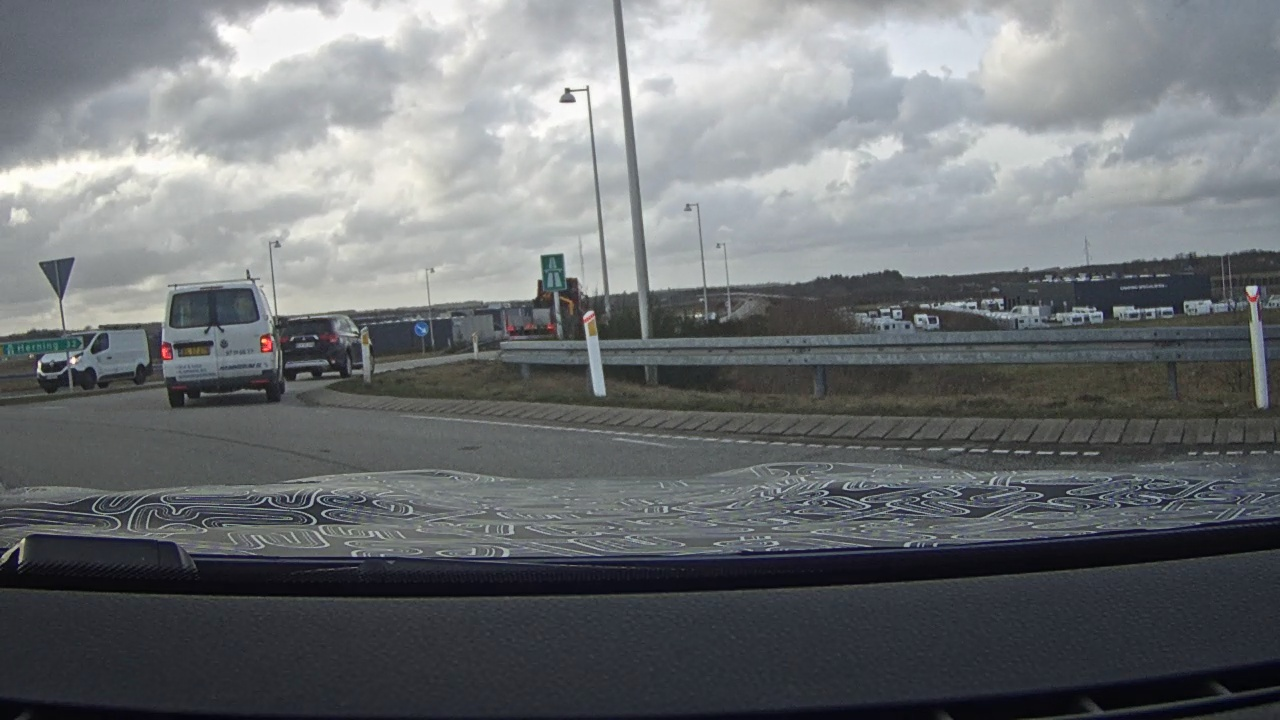Motorway_Begin: (540, 252, 568, 292)
